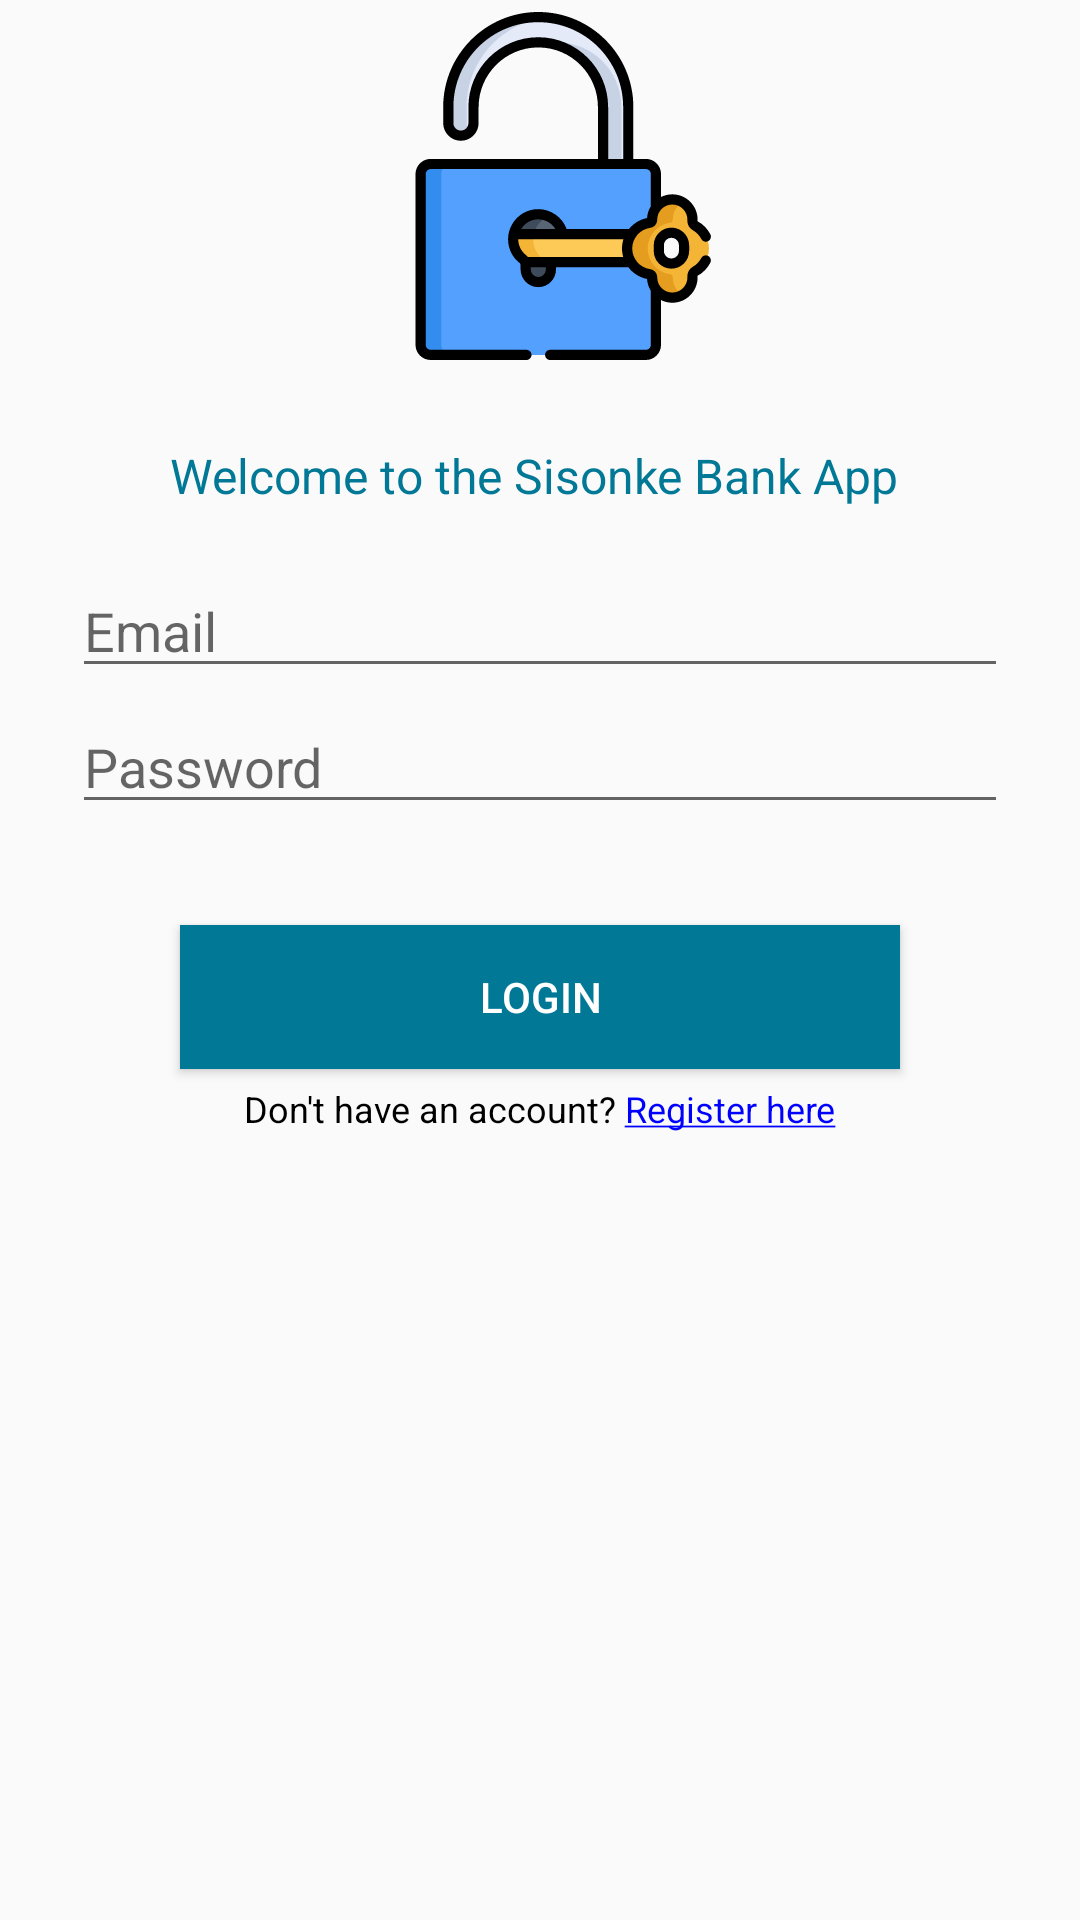

Where to tap for icons on this 1080x1920 app screen, as (x,y):
padlock: (563,186)
